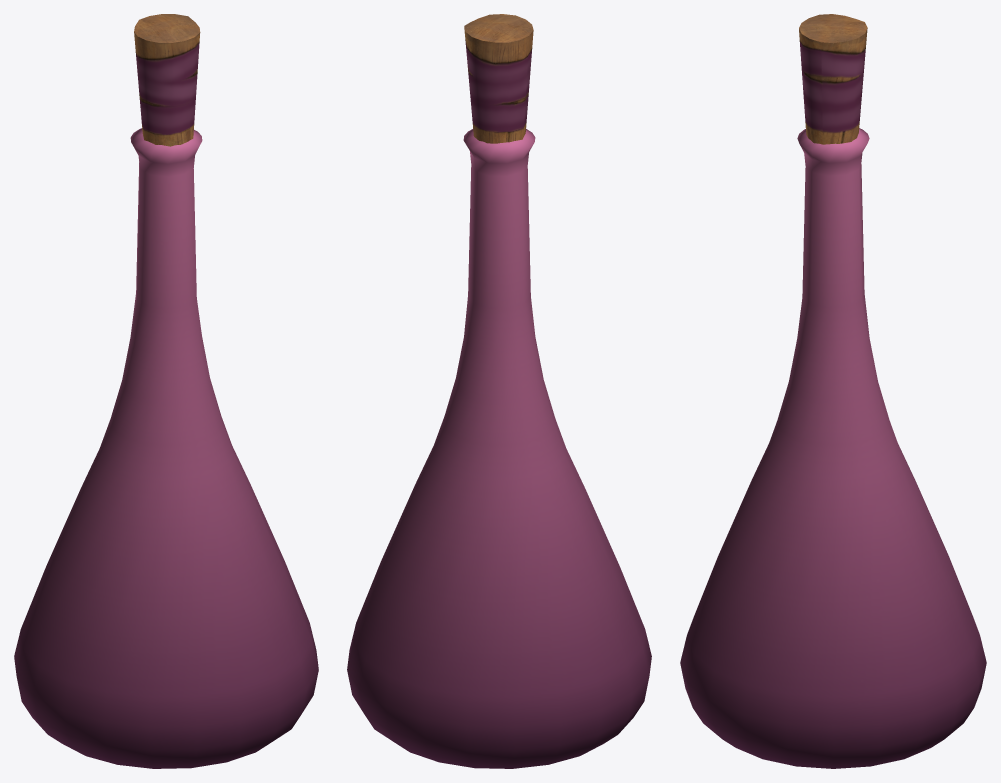
Rendered from SM_Potion_Props_Bottle_Big_02_A.fbx.
3 renders of one model, left to right at view 1: azimuth 30°, elevation 25°; view 2: azimuth 150°, elevation 25°; view 3: azimuth 270°, elevation 25°, orthographic.
Parts seen in each view (by area): view 1: SM_Potion_Props_Bottle_Big_02_A_LOD0; view 2: SM_Potion_Props_Bottle_Big_02_A_LOD0; view 3: SM_Potion_Props_Bottle_Big_02_A_LOD0.
Part boxes in pixels (left/top/right/bottom): SM_Potion_Props_Bottle_Big_02_A_LOD0: left=14, top=14, right=318, bottom=768; SM_Potion_Props_Bottle_Big_02_A_LOD0: left=347, top=14, right=651, bottom=768; SM_Potion_Props_Bottle_Big_02_A_LOD0: left=680, top=14, right=986, bottom=768.
Size of what is drawn, in the model's own units: 25.74 by 64.51 by 25.74.
